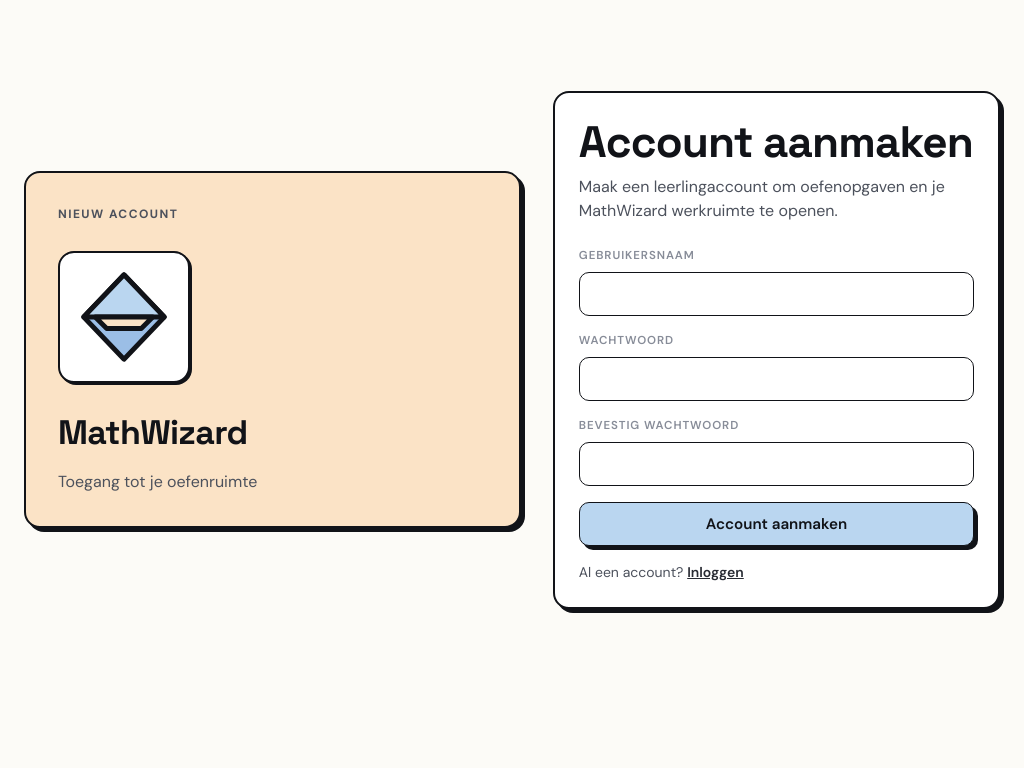
Test: Signup › shows a duplicate-username error on 409
The image size is (1024, 768).
Type "ada" into the field labelled "Gebruikersnaam" at (776, 294), box [579, 272, 974, 316]
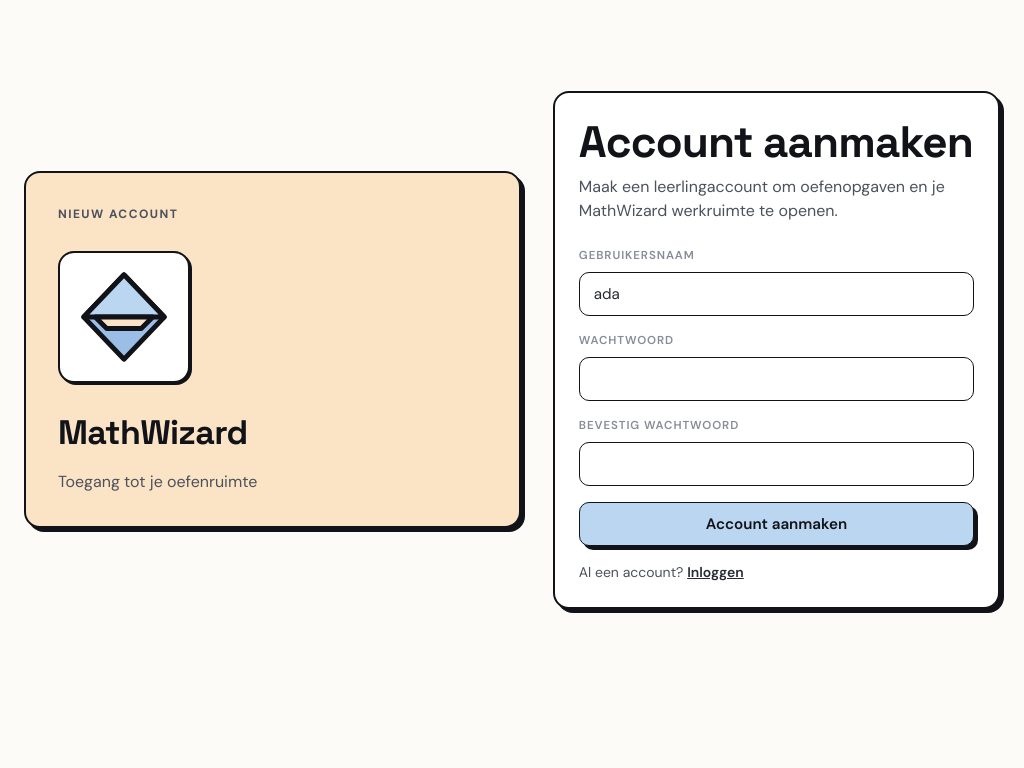
Type "password1" into the password field labelled "Wachtwoord" at (776, 379), box [579, 357, 974, 401]
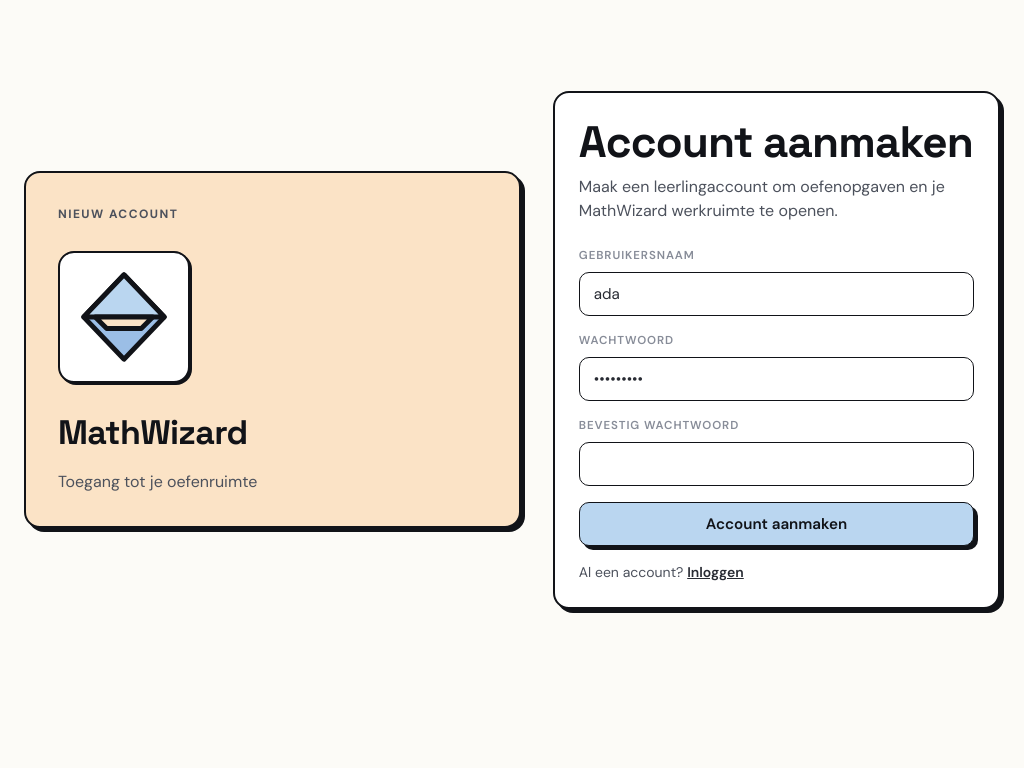
Type "password1" into the password field labelled "Bevestig wachtwoord" at (776, 464), box [579, 442, 974, 486]
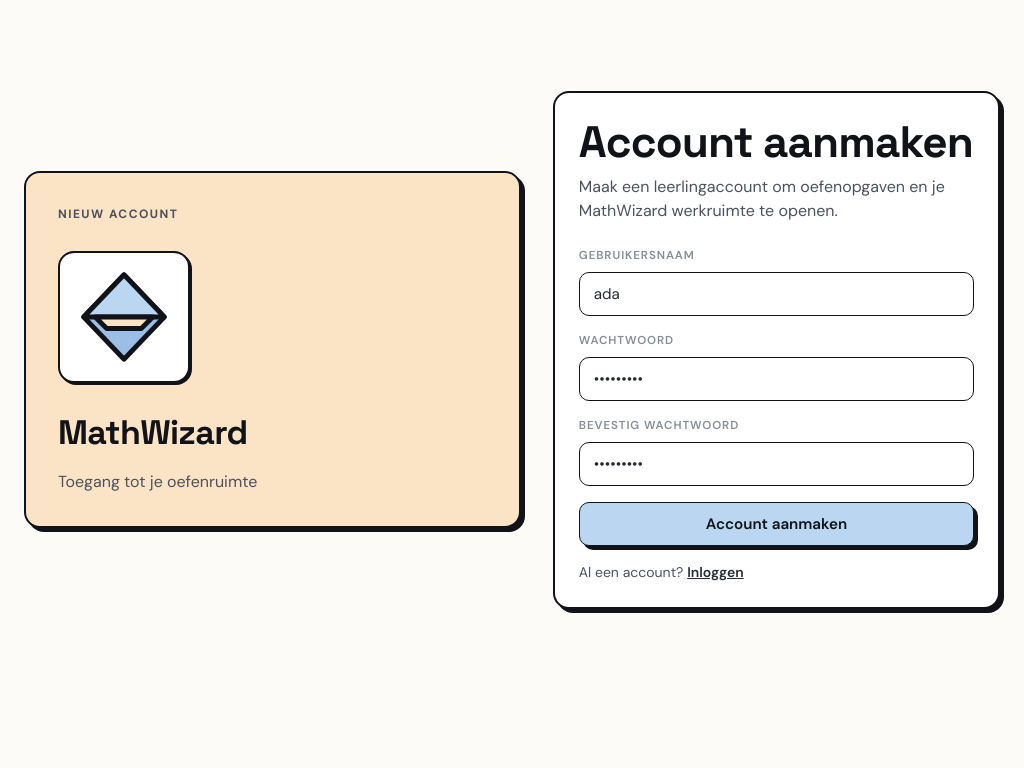
Click the button "Account aanmaken" at (776, 524), box [579, 502, 974, 546]
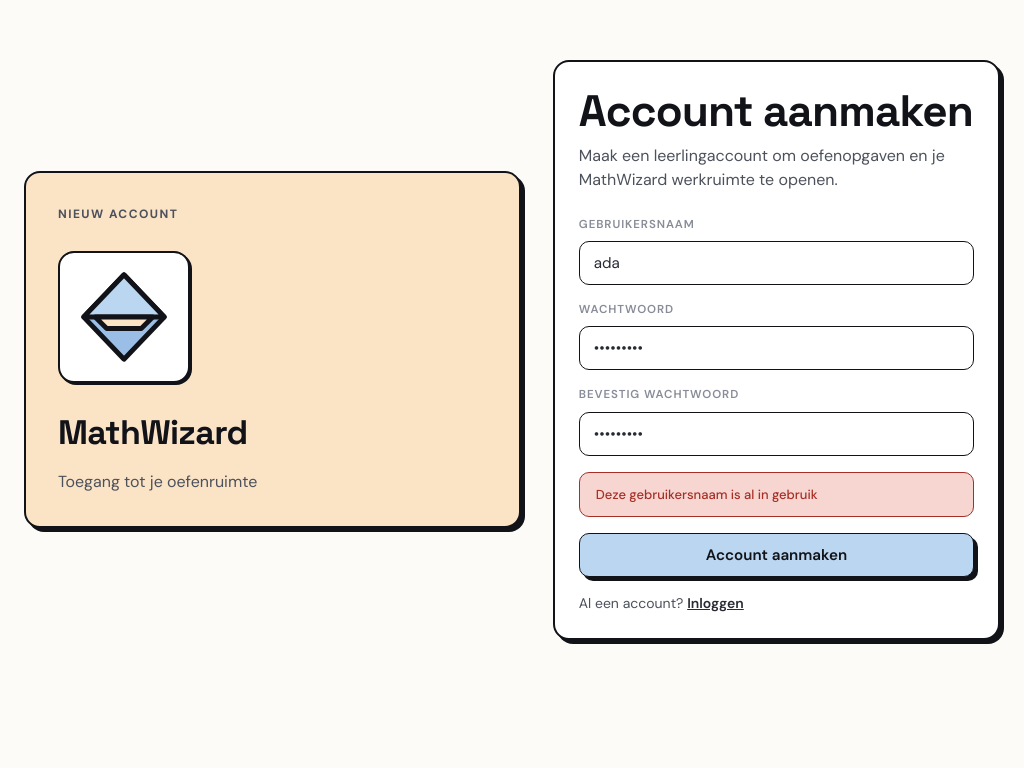
Expected: the message reads "Deze gebruikersnaam is al in gebruik", [596, 486, 818, 503]
